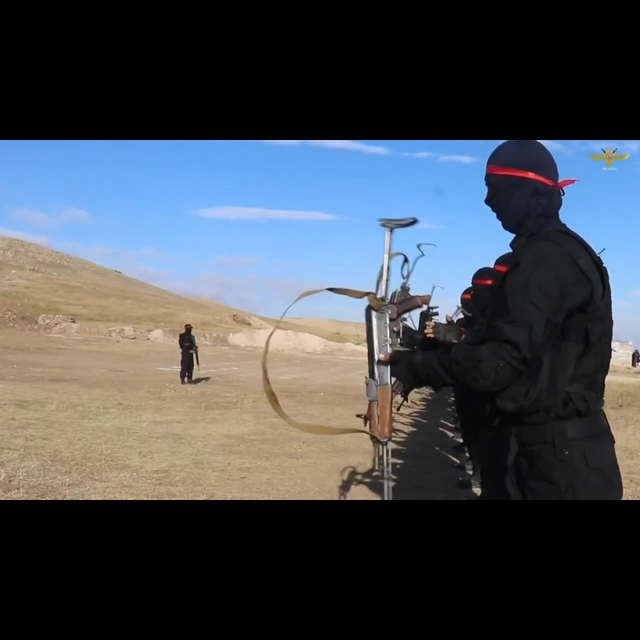AK47: (357, 296, 401, 499)
